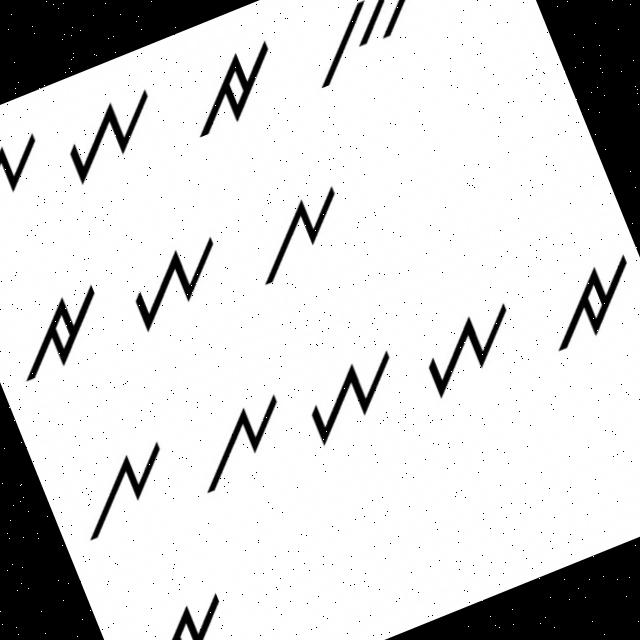la: (178, 380, 308, 506), (234, 175, 369, 296), (56, 432, 190, 552), (0, 121, 63, 239)
ra: (166, 29, 304, 156), (0, 268, 122, 394), (525, 240, 639, 362), (115, 583, 248, 639)
ya: (39, 76, 178, 204), (288, 335, 421, 462), (110, 220, 242, 340), (400, 293, 534, 411)
